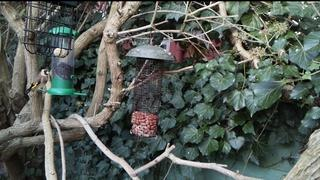goldfinch: (24, 68, 50, 95)
